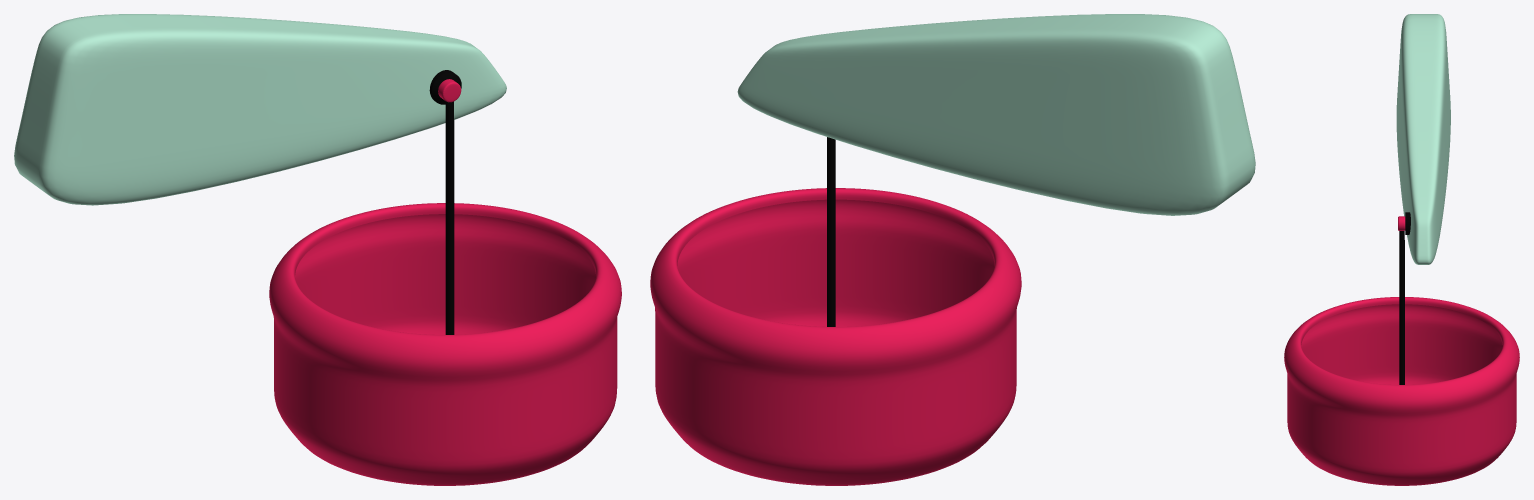
File: Wings right.gltf
The picture shows the model from 3 angles, left to right: view 1: azimuth 30°, elevation 25°; view 2: azimuth 150°, elevation 25°; view 3: azimuth 270°, elevation 25°; orthographic projection. The views are drawn at different scales.
Parts seen in each view (by area): view 1: basket-right, wings-right; view 2: basket-right, wings-right; view 3: basket-right, wings-right.
Boxes of the visible parts, x1,y1,x2,y2 form: basket-right: (269, 79, 621, 485); wings-right: (14, 14, 506, 205); basket-right: (650, 137, 1021, 485); wings-right: (737, 14, 1255, 215); basket-right: (1284, 216, 1519, 485); wings-right: (1396, 14, 1450, 264).
Bounding box in the file's own units: 1.2 × 0.9759 × 0.6607.
